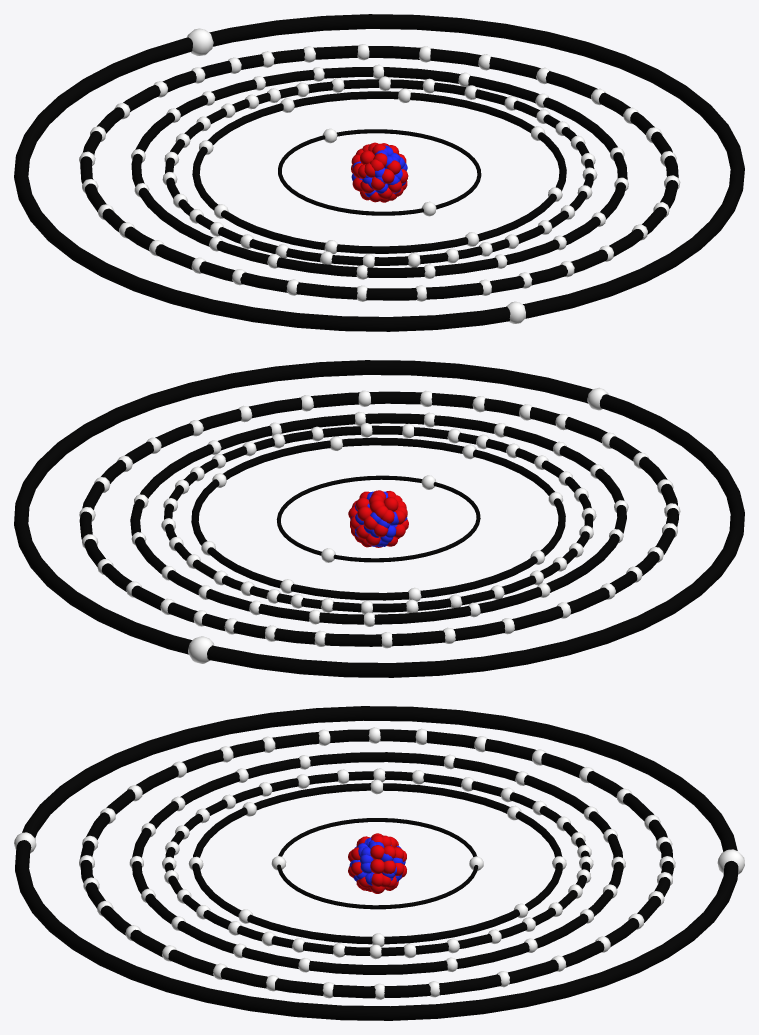
Rendered from 57 Lantano.fbx.
3 views of the same model, one above another, from view 1: azimuth 30°, elevation 25°; view 2: azimuth 150°, elevation 25°; view 3: azimuth 270°, elevation 25° (orthographic).
Visible parts, largest first — view 1: Orbita.006, Orbita.005, Orbita.004, Orbita.003, Orbita.002, Electron.111, Orbita.001, Electron.093; view 2: Orbita.006, Orbita.005, Orbita.004, Orbita.003, Orbita.002, Electron.111, Orbita.001; view 3: Orbita.006, Orbita.005, Orbita.004, Orbita.003, Orbita.002, Electron.111, Orbita.001.
Boxes of the visible parts, x1,y1,x2,y2 form: Orbita.006: [14, 14, 744, 331]; Orbita.005: [80, 45, 678, 300]; Orbita.004: [131, 67, 627, 277]; Orbita.003: [165, 79, 594, 265]; Orbita.002: [192, 91, 566, 253]; Electron.111: [351, 142, 408, 202]; Orbita.001: [278, 129, 481, 215]; Electron.093: [187, 28, 213, 55]; Orbita.006: [14, 360, 744, 677]; Orbita.005: [79, 391, 678, 646]; Orbita.004: [130, 413, 626, 624]; Orbita.003: [164, 425, 593, 612]; Orbita.002: [191, 437, 565, 600]; Electron.111: [348, 490, 408, 547]; Orbita.001: [276, 475, 480, 562]; Orbita.006: [15, 706, 738, 1020]; Orbita.005: [80, 729, 673, 998]; Orbita.004: [132, 752, 623, 974]; Orbita.003: [164, 771, 590, 956]; Orbita.002: [192, 783, 562, 944]; Electron.111: [348, 833, 406, 893]; Orbita.001: [277, 818, 478, 909].
Bounding box in the file's own units: 33.81 × 33.5 × 2.85.
